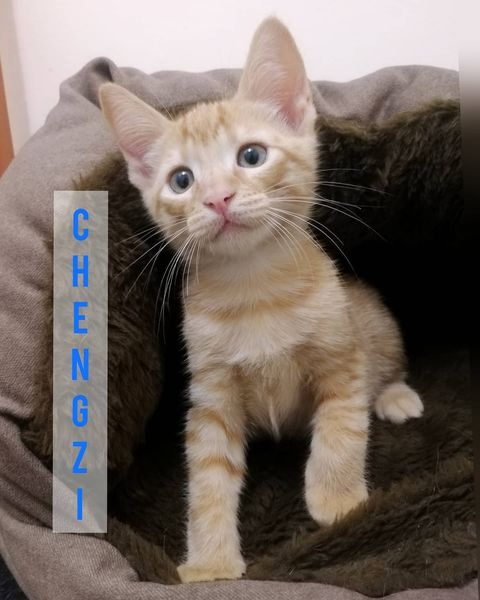cat: (100, 13, 433, 596)
